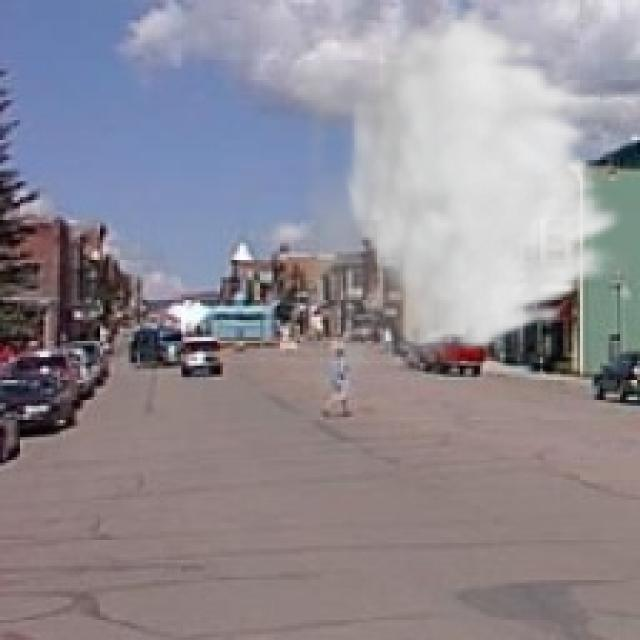smoke: (277, 3, 629, 426)
